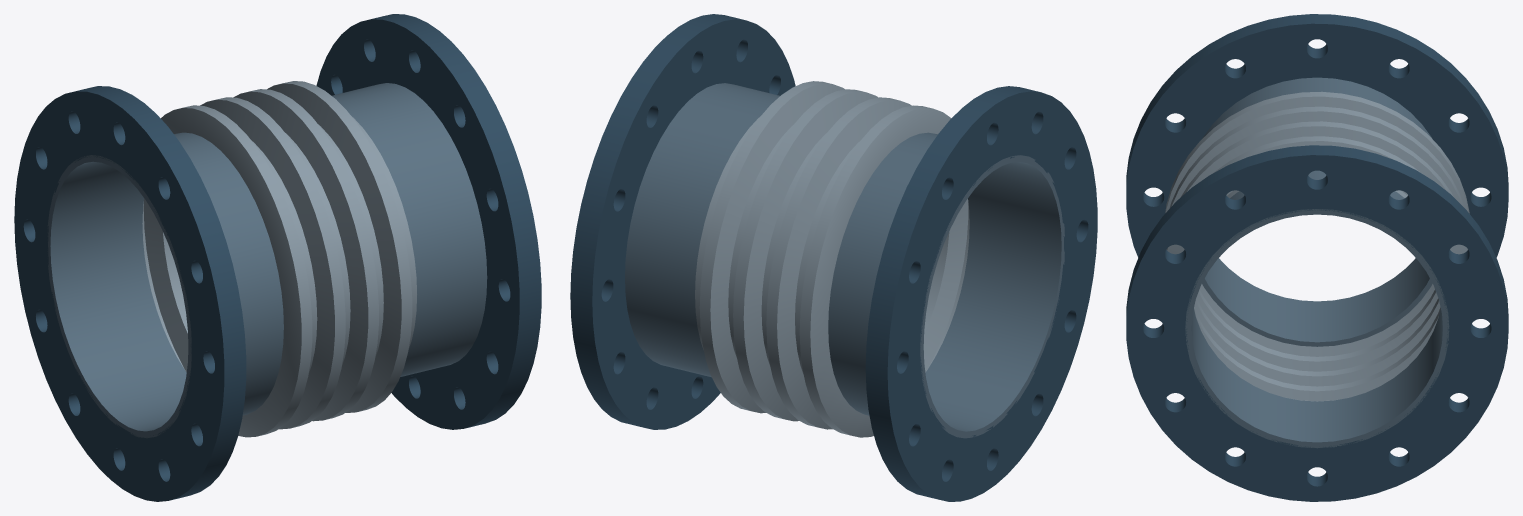
File: flan-dn250-L345-D273-f.glb
3 renders of one model, left to right at view 1: azimuth 30°, elevation 25°; view 2: azimuth 150°, elevation 25°; view 3: azimuth 270°, elevation 25°, orthographic. The views are drawn at different scales.
Parts seen in each view (by area): view 1: prokladka_silfon_1, homut_flanec_1, patrubok_1, homut_flanec_2, patrubok_2; view 2: prokladka_silfon_1, homut_flanec_1, patrubok_1, homut_flanec_2, patrubok_2; view 3: homut_flanec_2, homut_flanec_1, prokladka_silfon_1, patrubok_2, patrubok_1.
Part boxes in pixels (x1,y1,x2,y2): prokladka_silfon_1: [142, 81, 416, 437]; homut_flanec_1: [14, 86, 246, 501]; patrubok_1: [47, 132, 283, 438]; homut_flanec_2: [316, 14, 541, 429]; patrubok_2: [332, 83, 487, 376]; prokladka_silfon_1: [695, 81, 969, 437]; homut_flanec_1: [865, 86, 1097, 501]; patrubok_1: [828, 132, 1064, 438]; homut_flanec_2: [570, 14, 795, 429]; patrubok_2: [625, 83, 779, 377]; homut_flanec_2: [1126, 145, 1508, 501]; homut_flanec_1: [1126, 14, 1508, 257]; prokladka_silfon_1: [1165, 91, 1469, 401]; patrubok_2: [1185, 170, 1449, 448]; patrubok_1: [1202, 77, 1432, 346].
Size of the model in its own units: 345 by 396 by 396.
